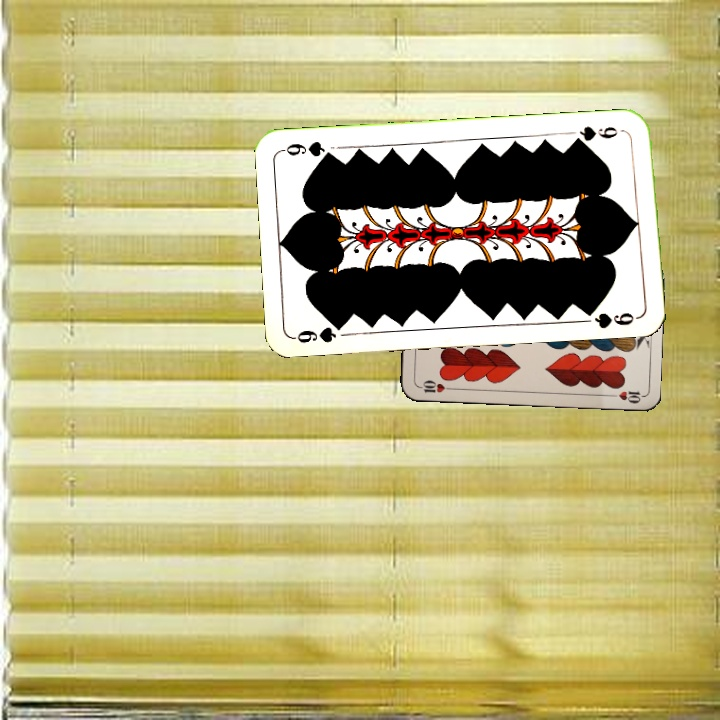G9: (290, 318, 349, 346), (569, 122, 620, 146)
H10: (415, 377, 455, 395)
